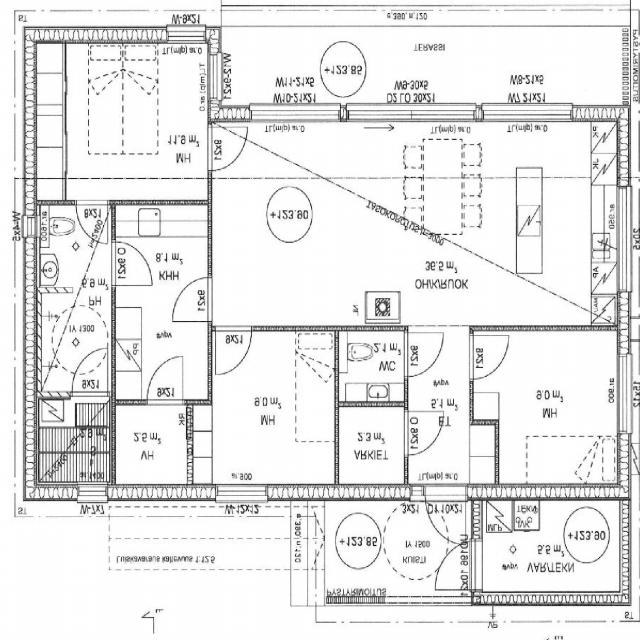door: (426, 484, 466, 549), (431, 540, 483, 589), (404, 410, 444, 455), (72, 348, 108, 397), (208, 127, 248, 171), (216, 325, 252, 373), (147, 356, 183, 404), (172, 278, 212, 321), (404, 332, 443, 376), (469, 335, 508, 378), (112, 242, 151, 285), (77, 200, 108, 243)
